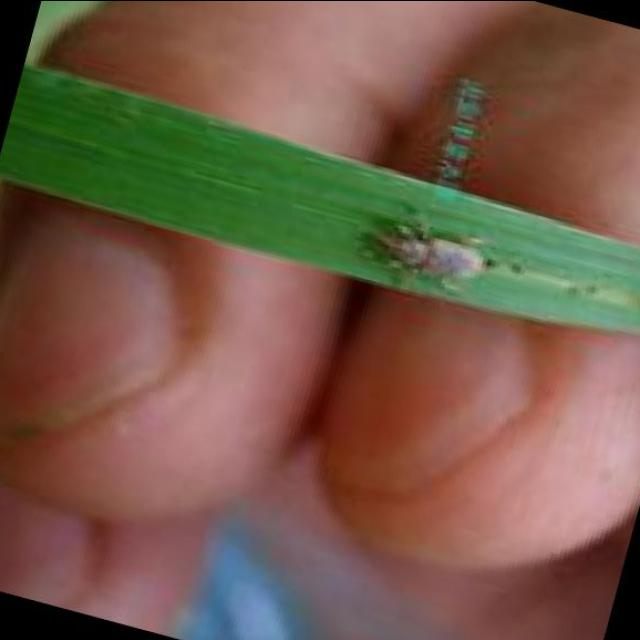ricebug: (381, 233, 492, 281)
